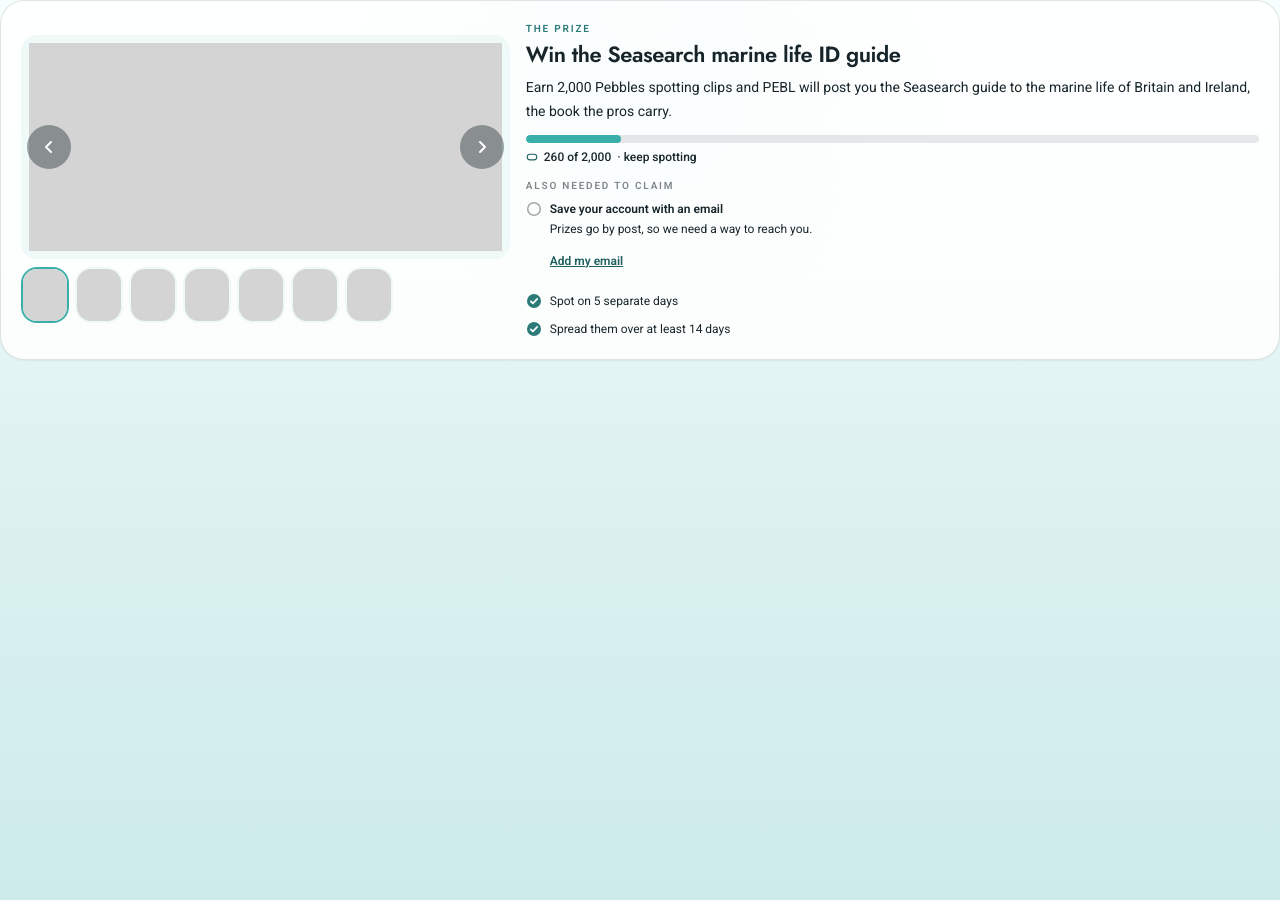
Test: PrizeCard › asks a guest to save their account, then moves them on to confirming it
Click the button "Add my email": (586, 261) [550, 239, 623, 283]
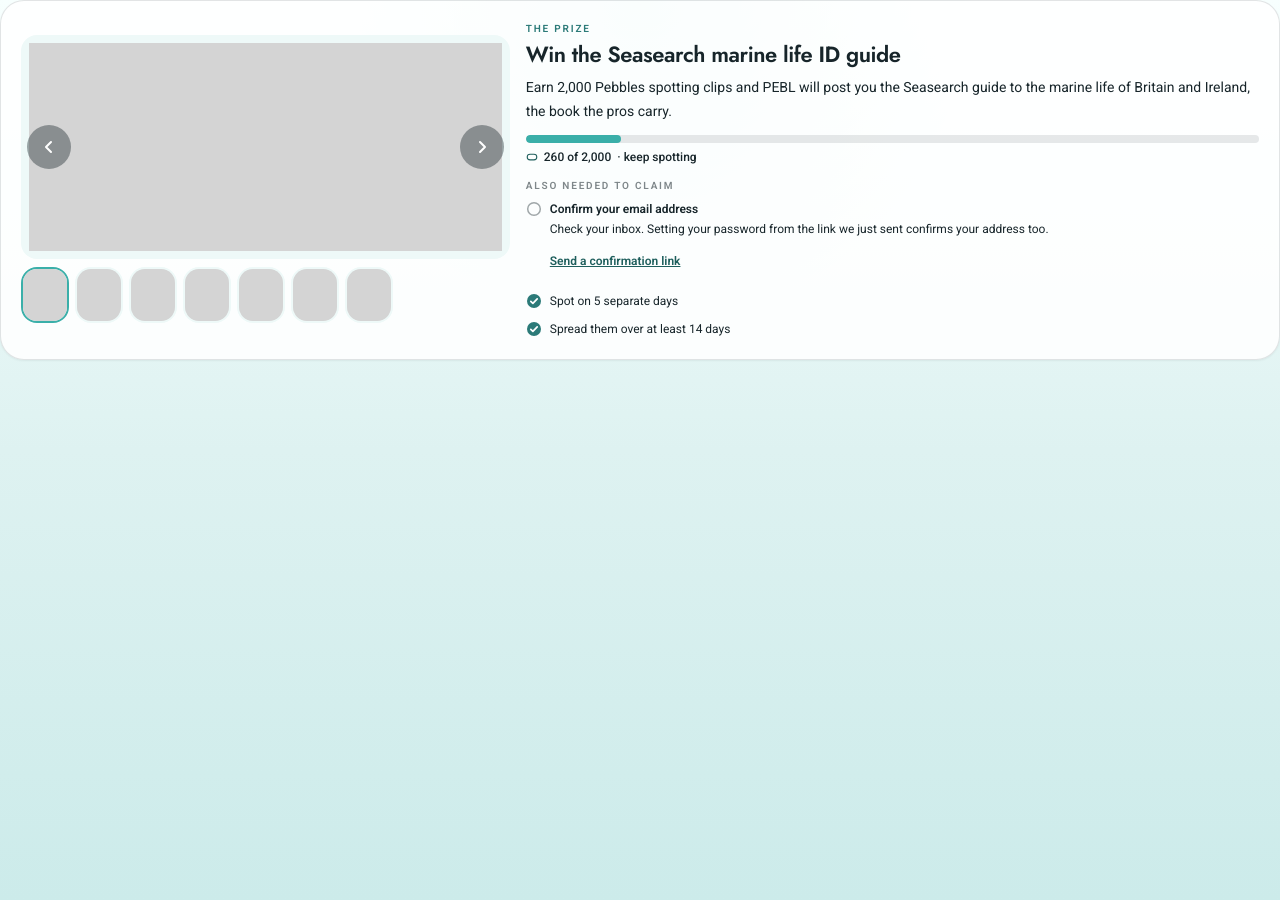
Check: the button "Add my email" is gone
Check: the text "Confirm your email address" is shown, box [549, 201, 698, 216]
Check: the button "Send a confirmation link" is shown, box [550, 239, 680, 283]
